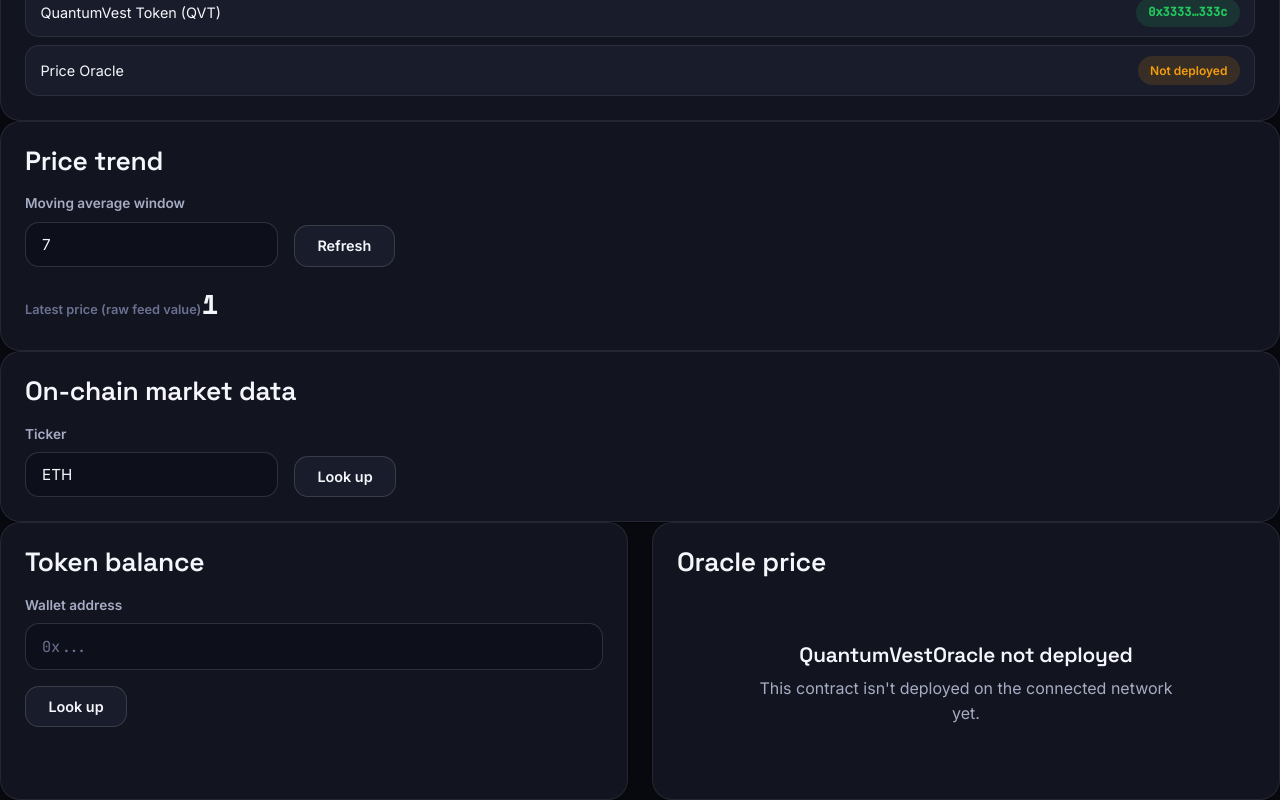
Test case: Blockchain page › looks up a QVT token balance
(page scrolled)
Type "0xabc0000000000000000000000000000000abc0" into the field labelled "Wallet address".
click(314, 646); type("0xabc0000000000000000000000000000000abc0")  # box [25,623,603,670]
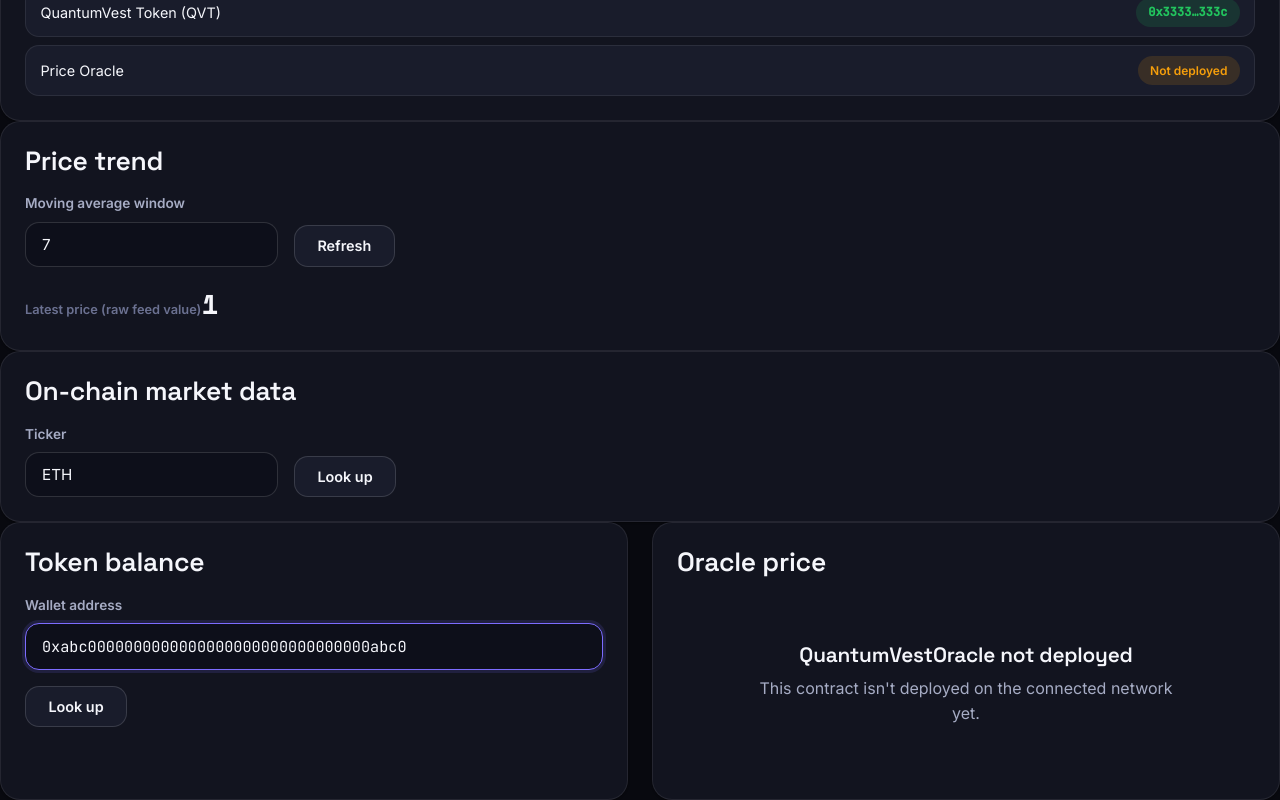
Click the button "Look up" below "Wallet address".
click(76, 706)  # box [25,686,127,727]
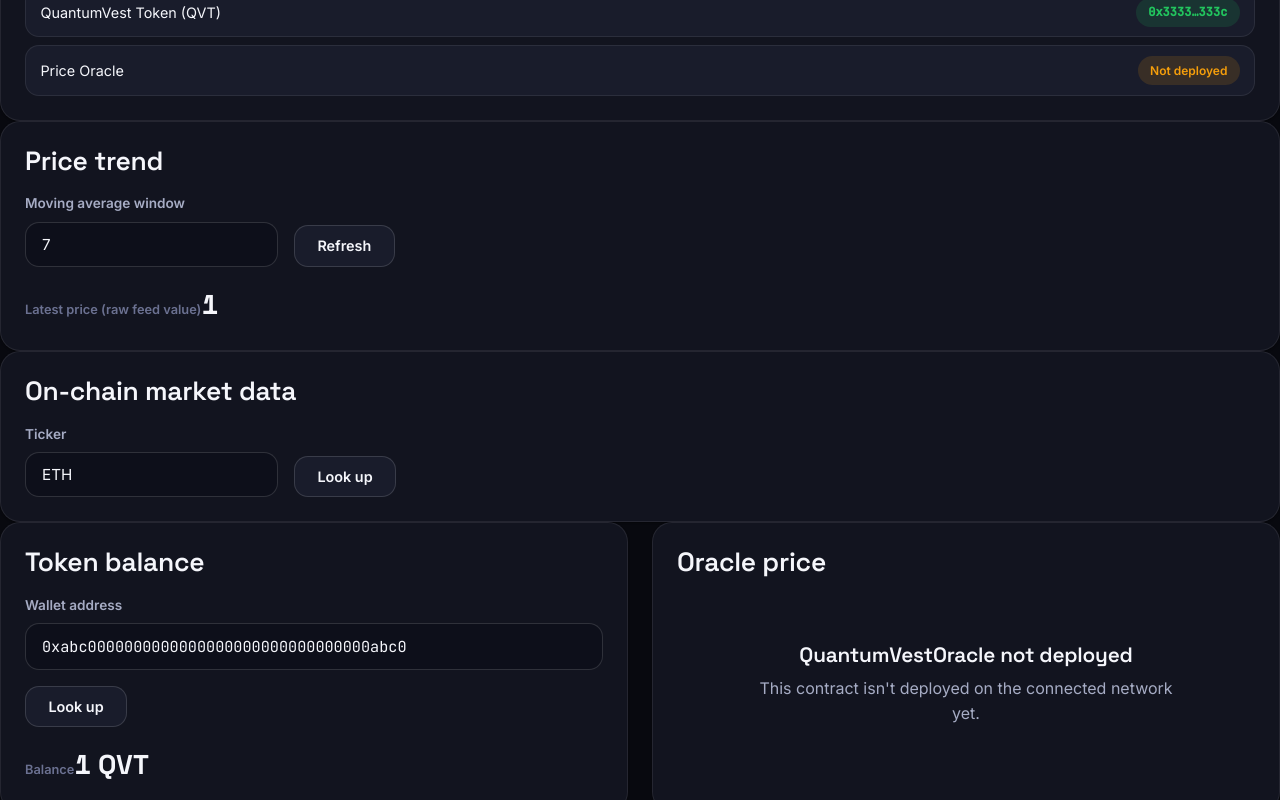
Expected: the text "1 QVT" is shown, [74,747,149,782]
